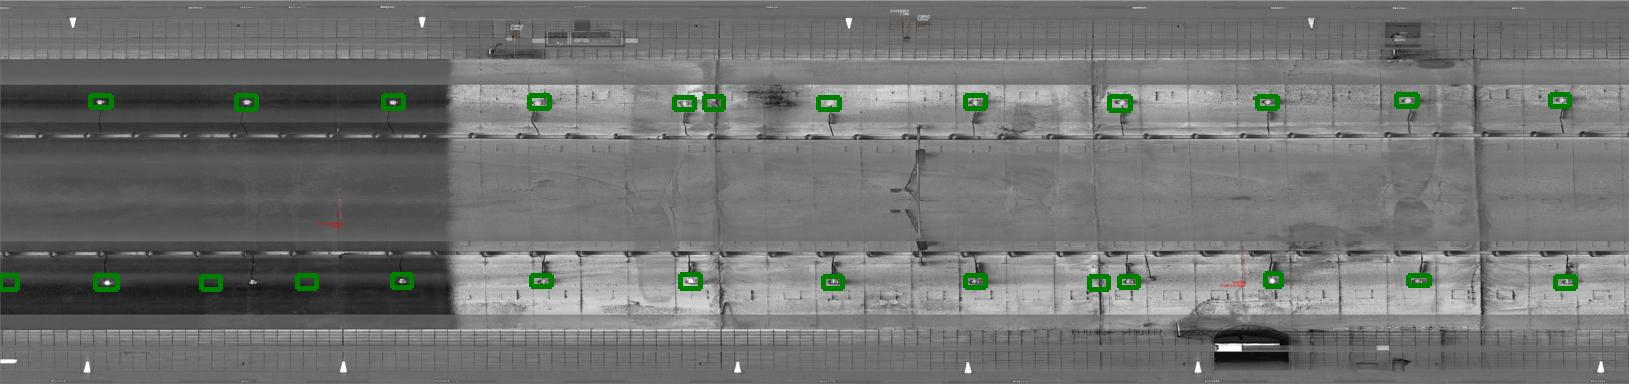light: (680, 272, 700, 290), (1111, 95, 1131, 111), (1261, 274, 1283, 289), (532, 274, 552, 289), (237, 95, 257, 109), (965, 275, 985, 289), (1551, 94, 1572, 107), (245, 275, 263, 290), (1118, 274, 1136, 289), (1261, 94, 1279, 109), (1409, 274, 1426, 289), (393, 275, 410, 289), (96, 278, 116, 290), (674, 95, 690, 110), (91, 95, 111, 107), (527, 97, 546, 108), (383, 95, 400, 109), (1398, 93, 1416, 106), (825, 97, 838, 112), (1560, 276, 1577, 289), (826, 275, 840, 287), (968, 98, 983, 108)
